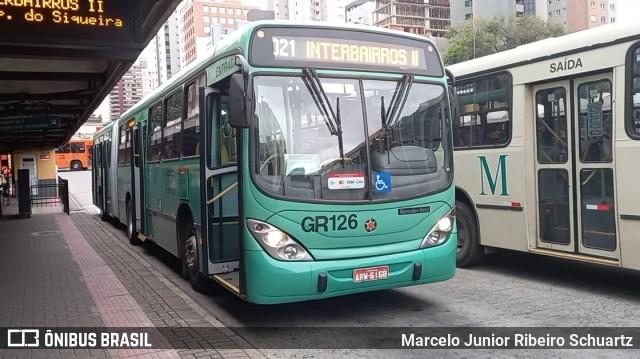INTERBAIRROS II: (301, 36, 424, 69)
